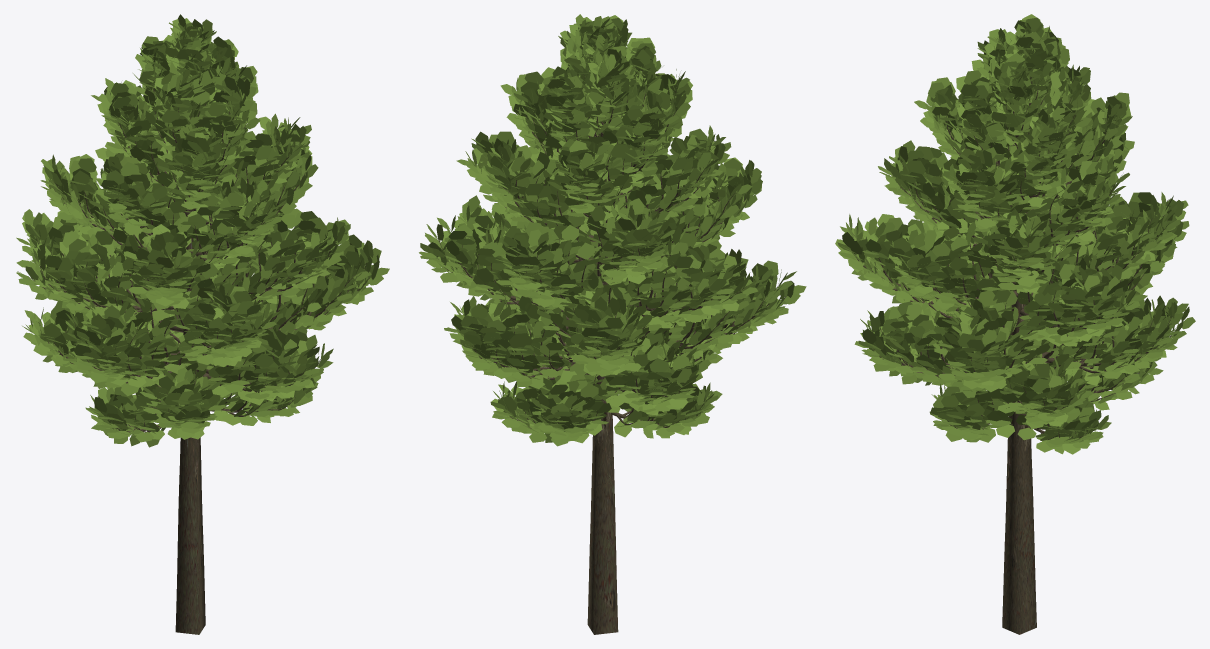
File: aspen.fbx
The picture shows the model from 3 angles, left to right: view 1: azimuth 30°, elevation 25°; view 2: azimuth 150°, elevation 25°; view 3: azimuth 270°, elevation 25°; orthographic projection.
Parts seen in each view (by area): view 1: leaves, tree; view 2: leaves, tree; view 3: leaves, tree.
Part boxes in pixels (x1=…): leaves: x1=16, y1=14, x2=389, y2=447; tree: x1=28, y1=61, x2=369, y2=634; leaves: x1=419, y1=14, x2=806, y2=446; tree: x1=436, y1=46, x2=786, y2=634; leaves: x1=835, y1=14, x2=1195, y2=454; tree: x1=853, y1=47, x2=1181, y2=634.
Size of the model in its own units: 1047 by 1836 by 985.
Materials: 2 (1 with a texture image).
